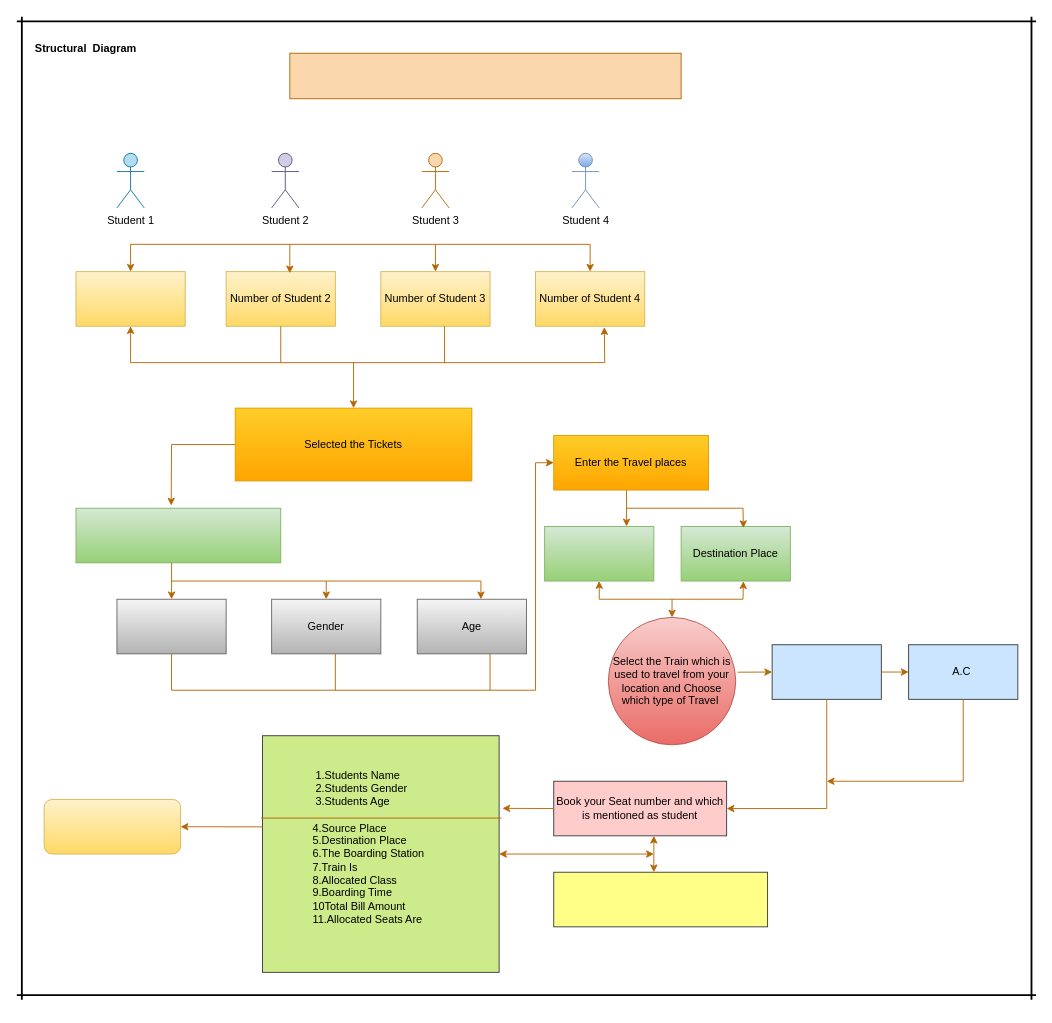
The diagram is 1052 pixels wide and 1023 high, and some of its shapes have lost their labels. The centre of each missing label's shape, as x and y in pixels:
Each Will update their own login details: (x=178, y=535)
Name: (x=171, y=626)
Number of student 1: (x=130, y=298)
Sleeper coach: (x=826, y=671)
Source Place: (x=599, y=553)
Student Transportation Booking: (x=485, y=75)
Thank you: (x=112, y=826)
The entered details will be displayed after booking the Seats: (x=660, y=899)
